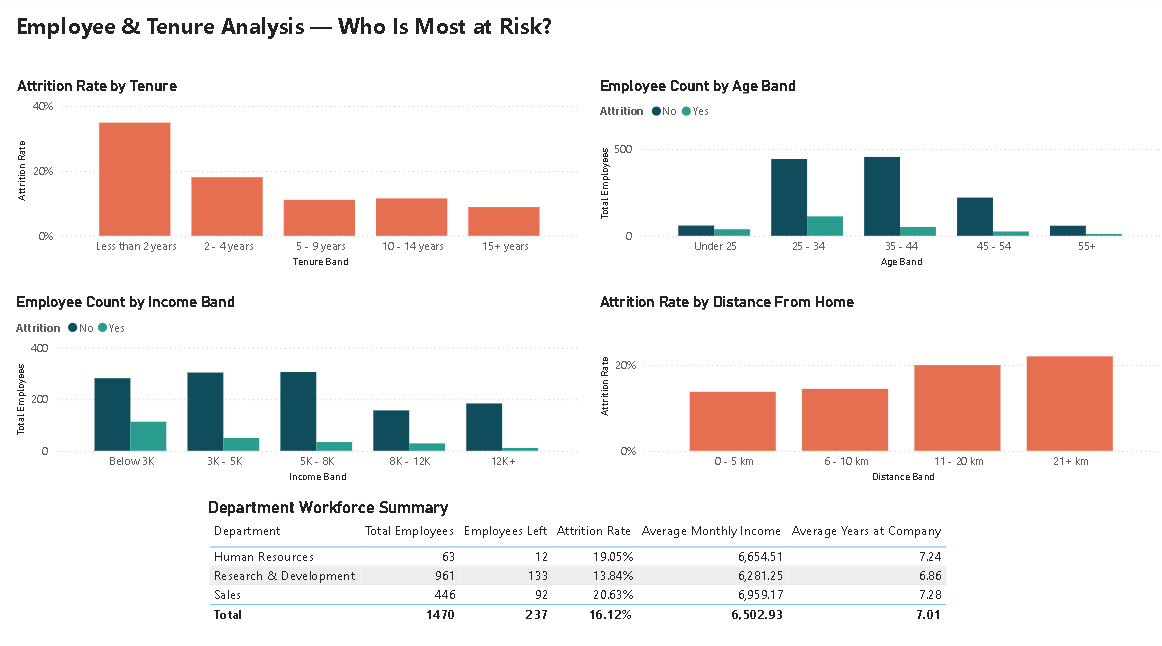

This screenshot's page, from the dashboard's own definition file:
{"tool":"powerbi","page":{"name":"Employee & Tenure Analysis","canvas":[1280,720],"ordinal":2},"visuals":[{"type":"textbox","box":[12.3,11,627.1,45.3],"z":0},{"type":"clusteredColumnChart","title":"Attrition Rate by Tenure","fields":{"Category":["Employees.Tenure Band"],"Y":["Employees.Attrition Rate"]},"box":[13.7,87.8,627.1,215.4],"z":1000},{"type":"clusteredColumnChart","title":"Employee Count by Age Band","fields":{"Y":["Employees.Total Employees"],"Series":["Employees.Attrition"],"Category":["Employees.Age Band"]},"box":[653.2,87.8,627.1,215.4],"z":2000},{"type":"clusteredColumnChart","title":"Employee Count by Income Band","fields":{"Y":["Employees.Total Employees"],"Series":["Employees.Attrition"],"Category":["Employees.Income Band"]},"box":[12.3,325.2,627.1,214.1],"z":3000},{"type":"clusteredColumnChart","title":"Attrition Rate by Distance From Home","fields":{"Category":["Employees.Distance Band"],"Y":["Employees.Attrition Rate"]},"box":[653.2,325.2,627.1,214.1],"z":4000},{"type":"tableEx","title":"Department Workforce Summary","fields":{"Values":["Employees.Department","Employees.Total Employees","Employees.Employees Left","Employees.Attrition Rate","Employees.Average Monthly Income","Employees.Average Years at Company"]},"box":[223.7,550.3,859,159.2],"z":5000}]}

Visuals, with their boxes in screenshot pixels (x1, y1, x2, y2), scaled from the page's 1280x720 canvas onto the 1162x646 screenshot:
textbox: left=11, top=10, right=580, bottom=51
"Attrition Rate by Tenure" clusteredColumnChart: left=12, top=79, right=582, bottom=272
"Employee Count by Age Band" clusteredColumnChart: left=593, top=79, right=1161, bottom=272
"Employee Count by Income Band" clusteredColumnChart: left=11, top=292, right=580, bottom=484
"Attrition Rate by Distance From Home" clusteredColumnChart: left=593, top=292, right=1161, bottom=484
"Department Workforce Summary" tableEx: left=203, top=494, right=983, bottom=637
